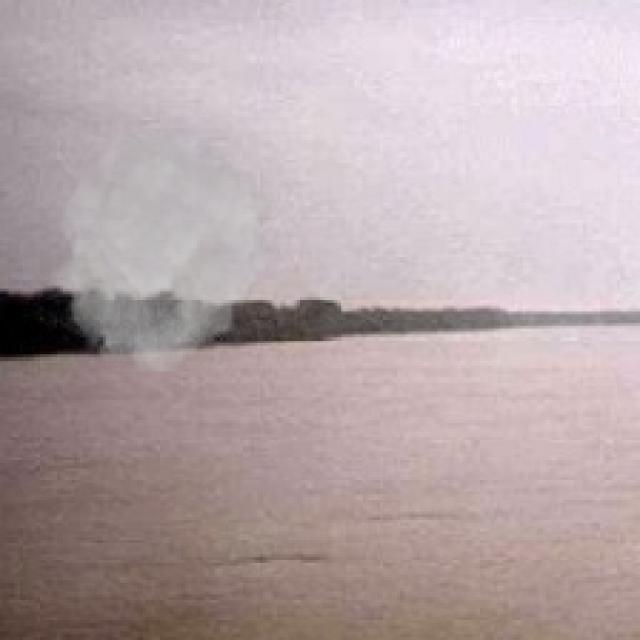smoke: (43, 128, 283, 372)
